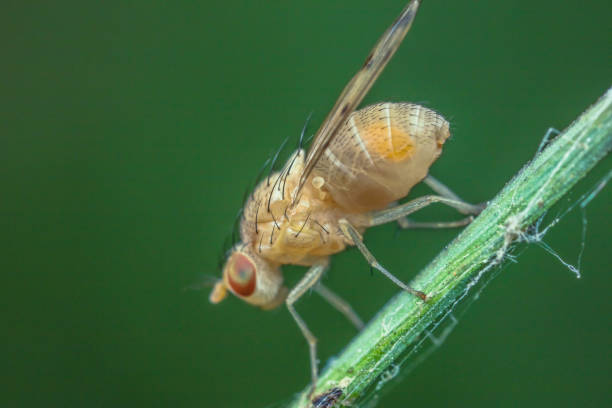Fruit fly: (204, 30, 474, 378)
